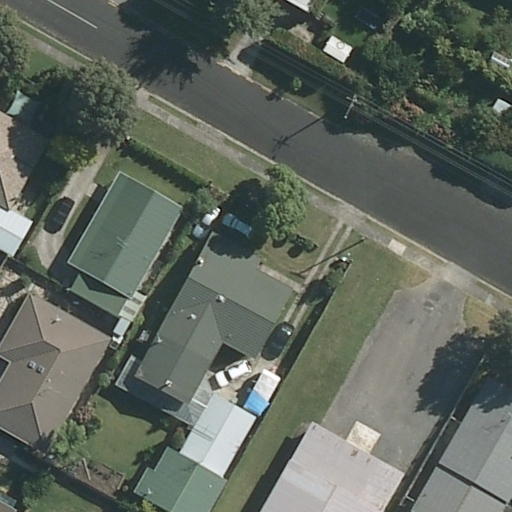DT: (340, 91, 361, 122)
